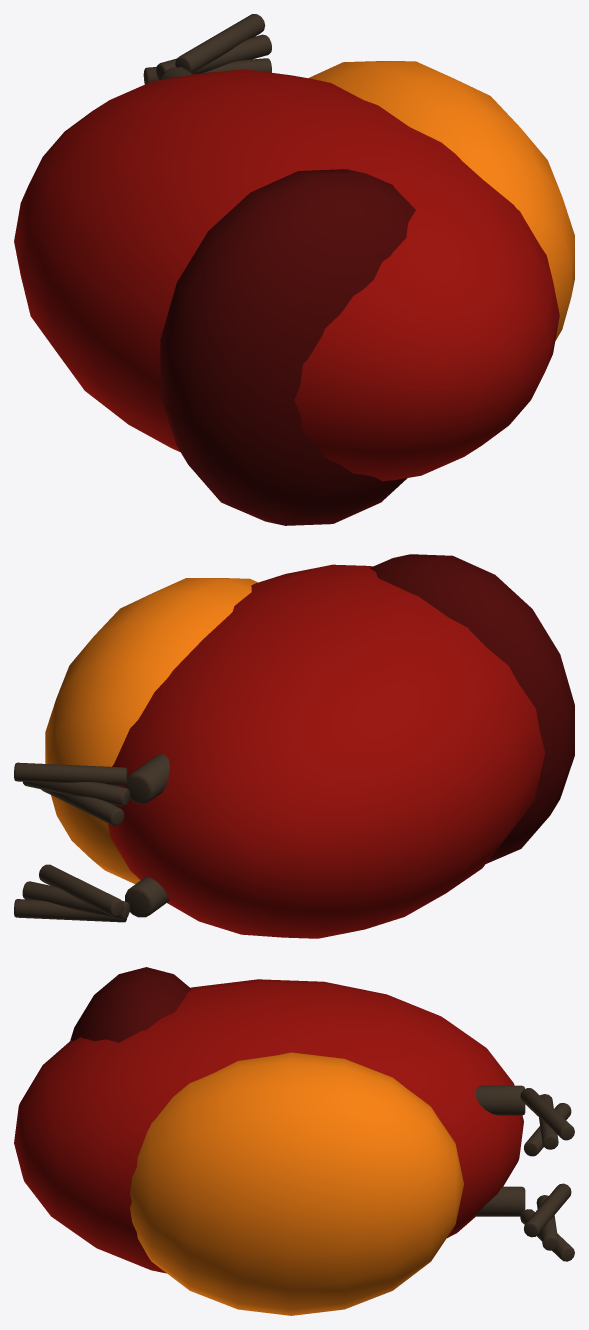
The model's file is SM_LT_Parrot_Body.obj.
3 renders of one model, top to bottom at view 1: azimuth 30°, elevation 25°; view 2: azimuth 150°, elevation 25°; view 3: azimuth 270°, elevation 25°, orthographic. The views are drawn at different scales.
Visible parts, largest first — view 1: SM_LT_Parrot_Body; view 2: SM_LT_Parrot_Body; view 3: SM_LT_Parrot_Body.
Boxes of the visible parts, left/top/right/bottom form: SM_LT_Parrot_Body: left=14, top=14, right=574, bottom=525; SM_LT_Parrot_Body: left=14, top=554, right=574, bottom=938; SM_LT_Parrot_Body: left=14, top=967, right=574, bottom=1315.
Bounding box in the file's own units: 38.27 × 26.8 × 50.34.
